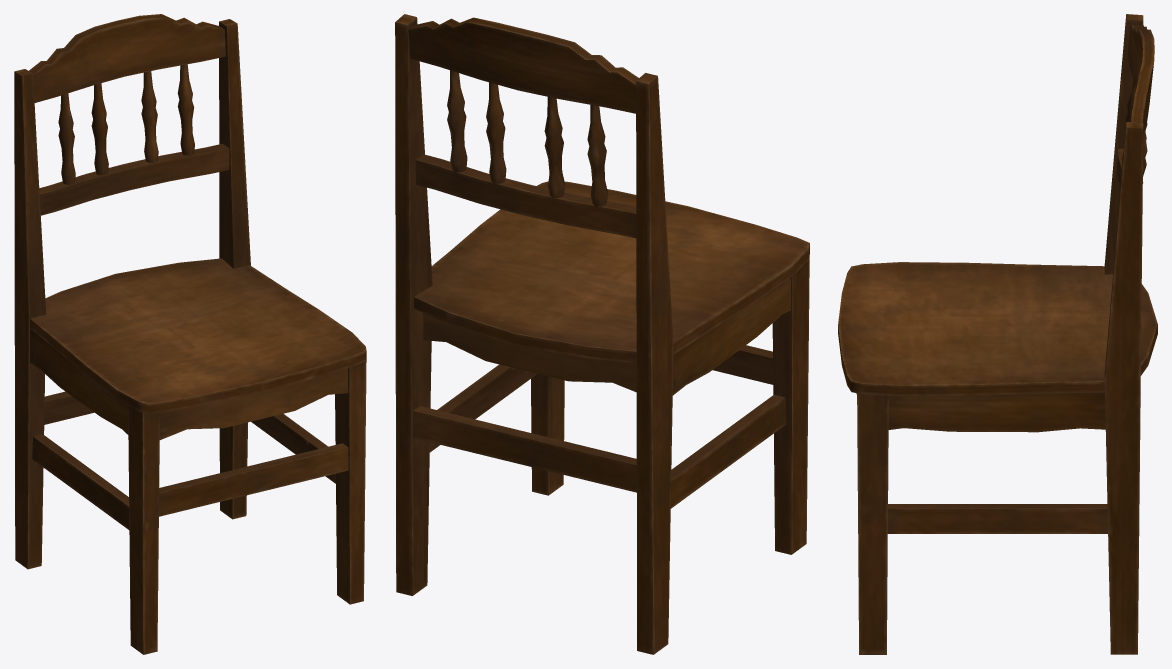
Rendered from old_wooden_chair.gltf.
3 renders of one model, left to right at view 1: azimuth 30°, elevation 25°; view 2: azimuth 150°, elevation 25°; view 3: azimuth 270°, elevation 25°, orthographic. The views are drawn at different scales.
Parts seen in each view (by area): view 1: old_wooden_chair; view 2: old_wooden_chair; view 3: old_wooden_chair.
Part boxes in pixels (x1,y1,x2,y2): old_wooden_chair: [14, 14, 366, 654]; old_wooden_chair: [395, 14, 809, 654]; old_wooden_chair: [838, 14, 1157, 654].
Bounding box in the file's own units: 83.77 × 172 × 91.31.
1 material, 1 textured.
